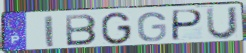B: (64, 13, 99, 47)
G: (100, 11, 133, 46), (136, 11, 168, 43)
I: (43, 15, 56, 48)
P: (170, 9, 205, 43)
U: (204, 6, 240, 41)
